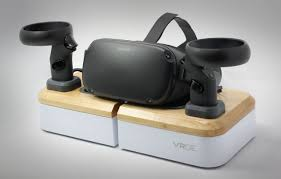oculus: (82, 38, 196, 111)
